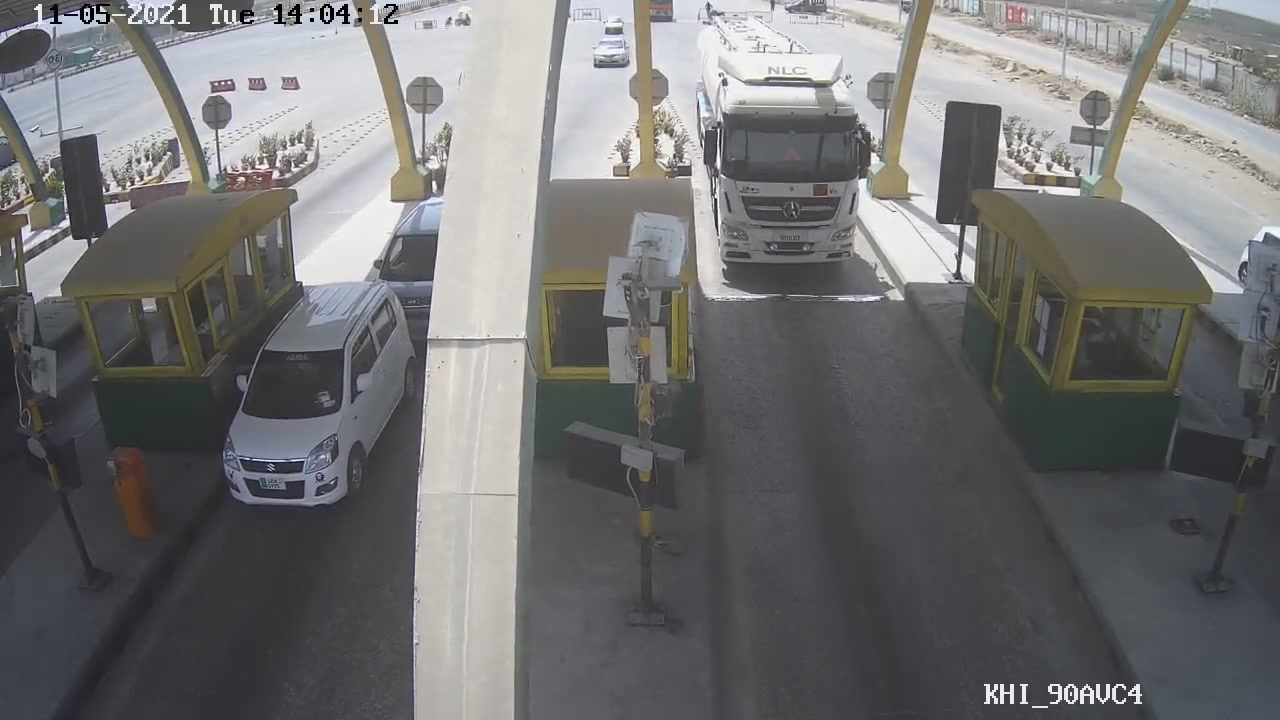F6: (690, 40, 886, 287)
